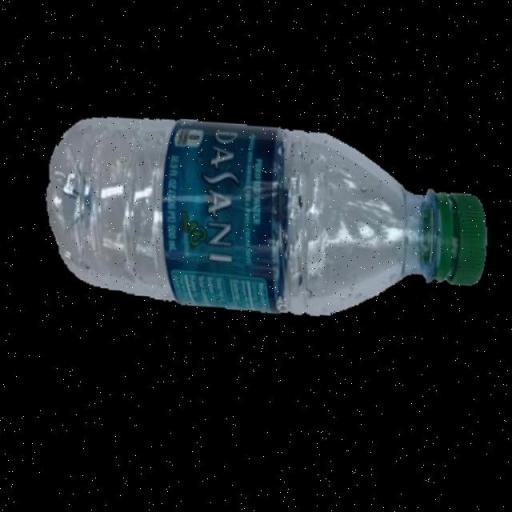plastic: (41, 108, 495, 323)
